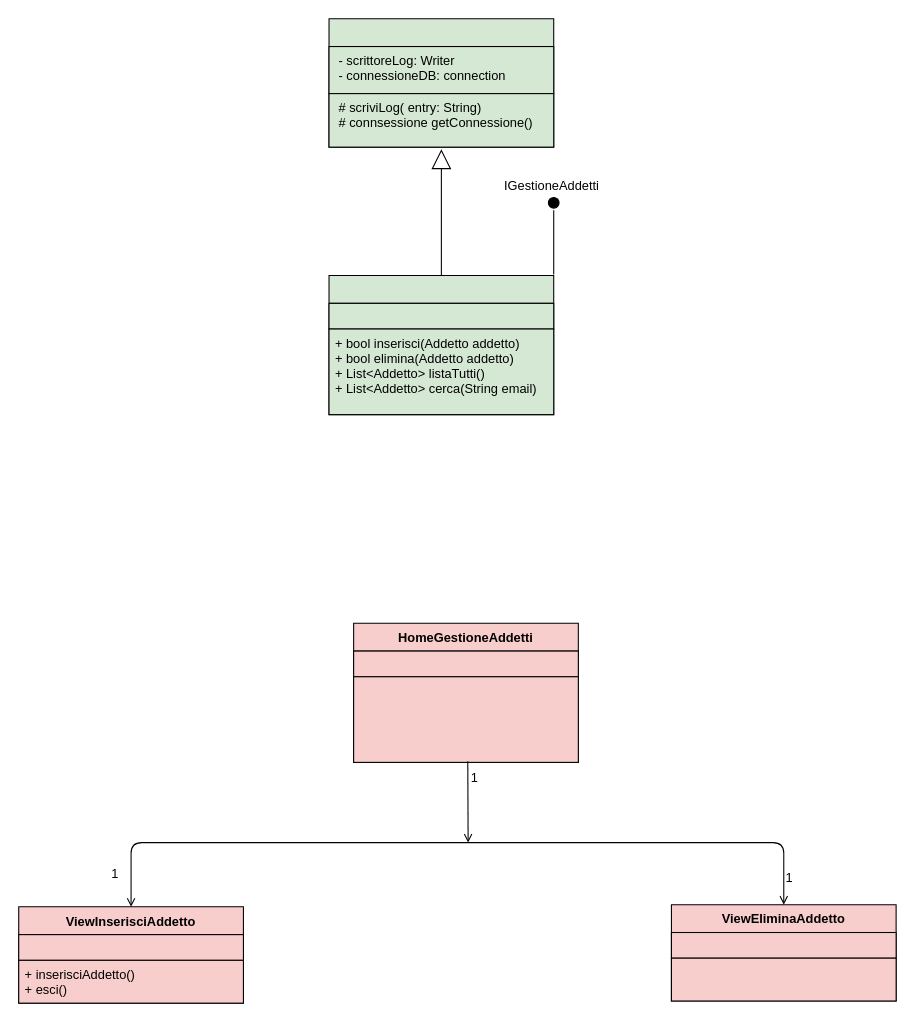
This 915x1025 diagram has some shape labels left out. Each missing label, with the box of its shape:
+ eliminaAddetto() + esci(): (670, 957, 896, 1001)
+ listaTutti() + cercaAddetto() + inserisci() + elimina(): (353, 676, 578, 762)
Controller: (328, 18, 554, 147)
GestioneAddettiController: (328, 274, 554, 415)
